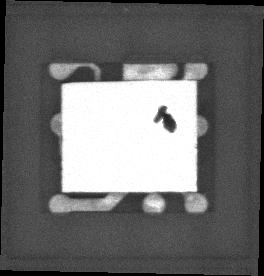DIE_INK: (146, 110, 168, 139)
